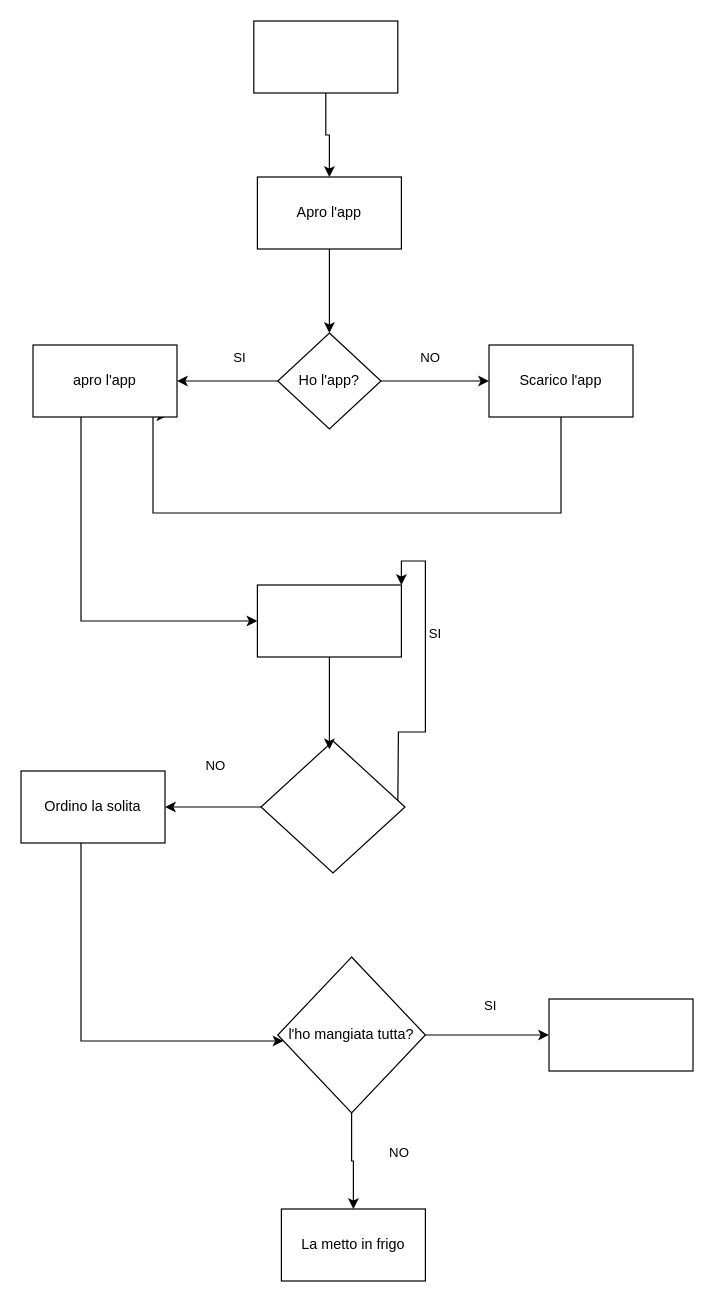
Image size: 714x1302. Some labels were removed from this diagram. The shapes that lost their labels are listed below. From the top down, each one's centre as x and y in pixels, then its label:
At pixel 325 56: "Ho voglia di Pizza".
At pixel 328 620: "consulto il menù".
At pixel 332 806: "Voglio cambiare pizza?".
At pixel 620 1034: "Butto il cartone".
